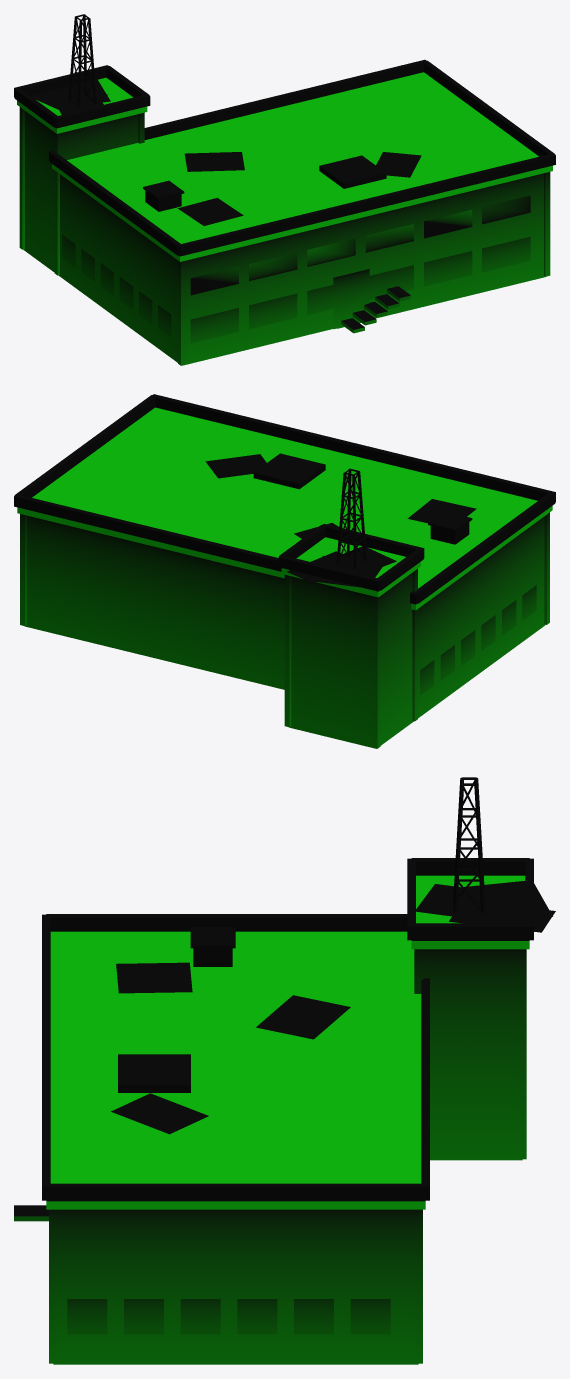
File: genericmilitary.glb
3 renders of one model, top to bottom at view 1: azimuth 30°, elevation 25°; view 2: azimuth 150°, elevation 25°; view 3: azimuth 270°, elevation 25°, orthographic. The views are drawn at different scales.
Visible parts, largest first — view 1: lod0; view 2: lod0; view 3: lod0.
Boxes of the visible parts, left/top/right/bottom form: lod0: left=14, top=14, right=555, bottom=365; lod0: left=14, top=394, right=555, bottom=748; lod0: left=14, top=777, right=555, bottom=1364.
Size of what is drawn, in the model's own units: 23 by 13.75 by 19.29.
